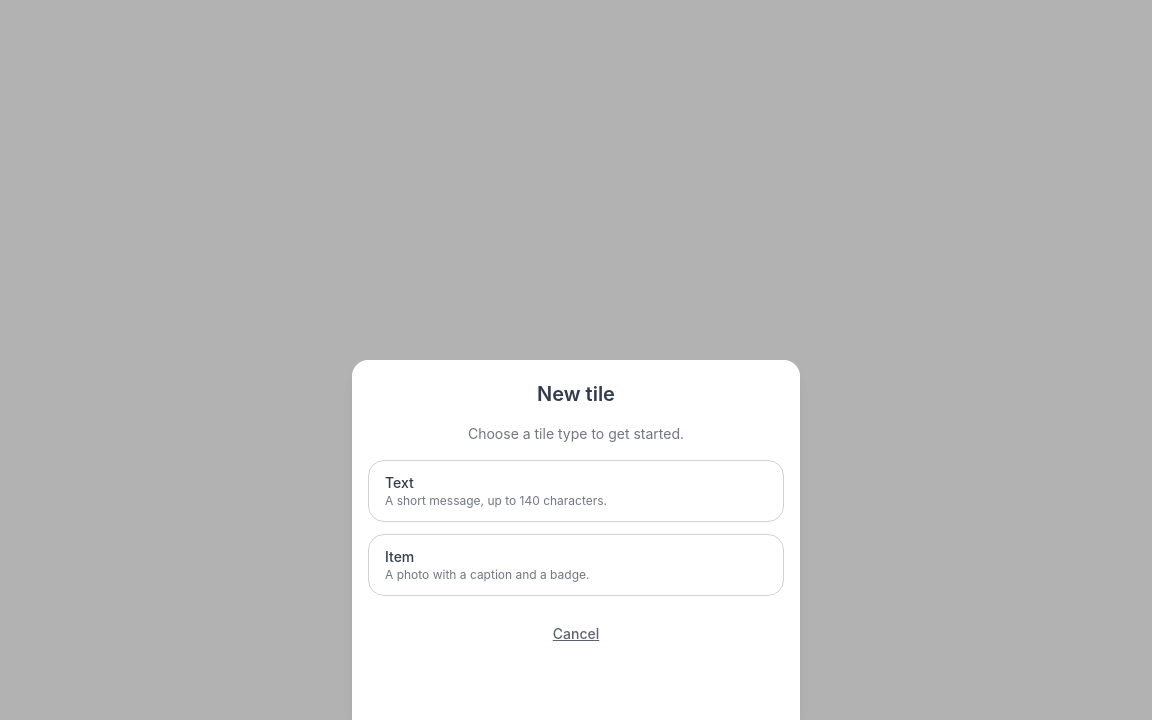
Test: AddTileSheet › creates a text tile, then confirms, notifies, and closes
Click the button "Text A short message, up to 140 characters.": (576, 491) [368,460,784,522]
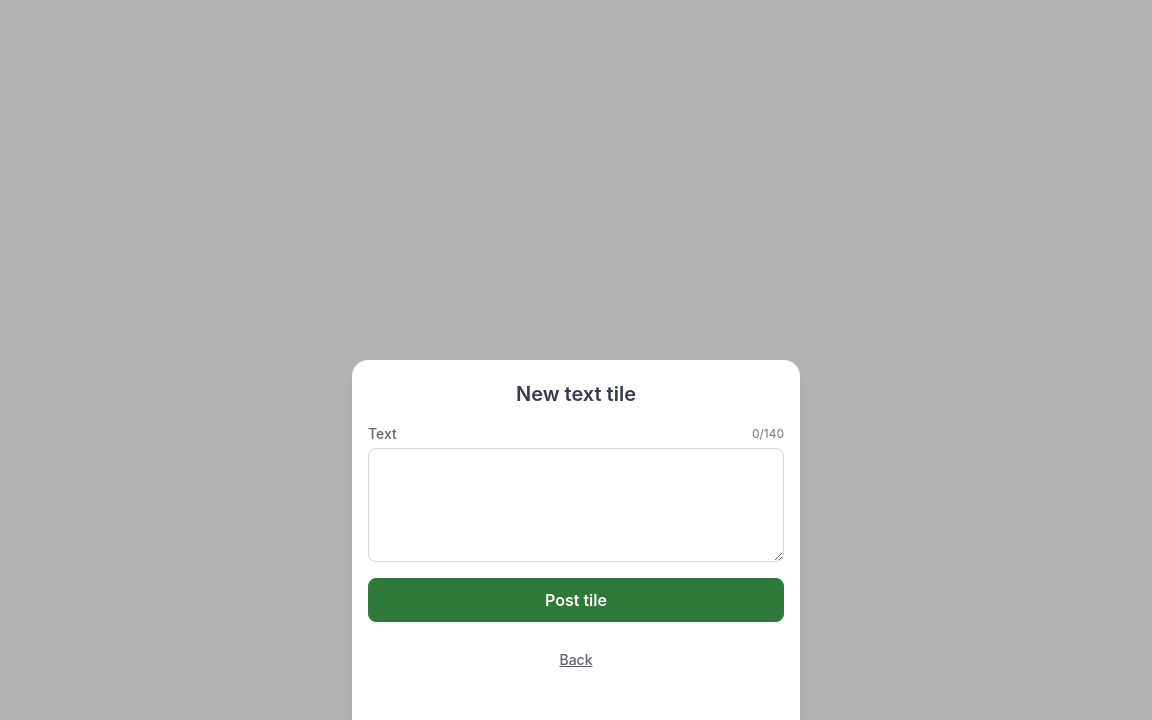
In the text box labelled "Text": (576, 505) [368,448,784,562], type "Hi there"
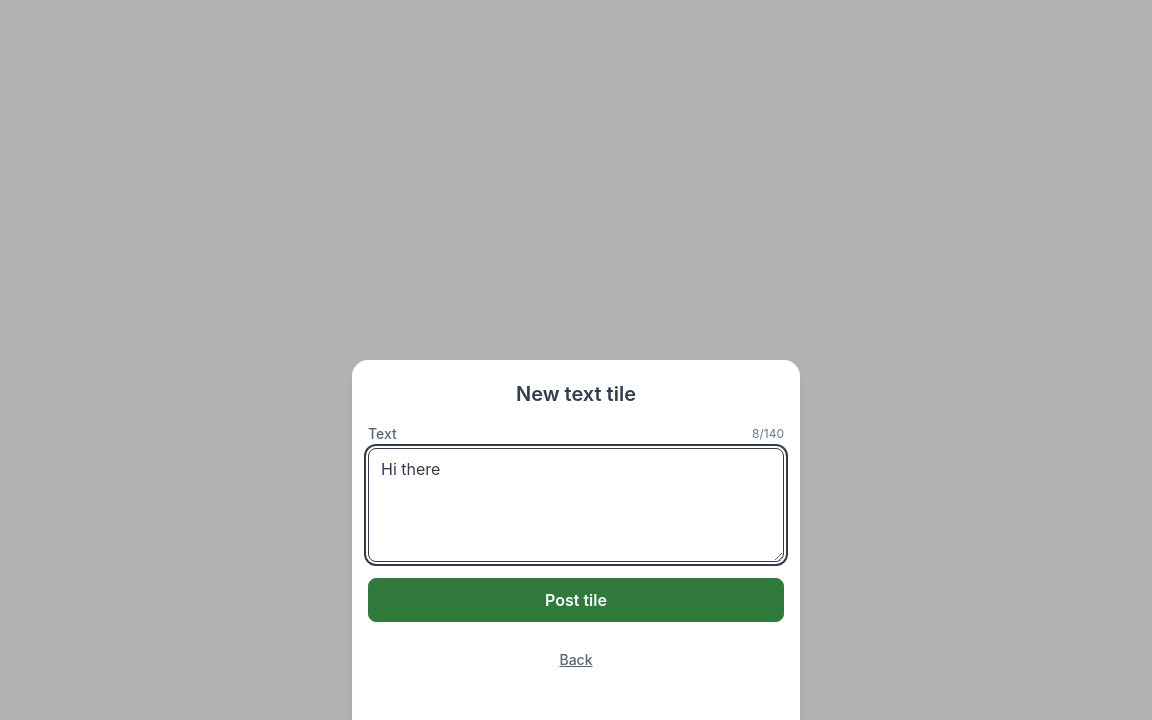
Click the button "Post tile": (576, 600) [368,578,784,622]
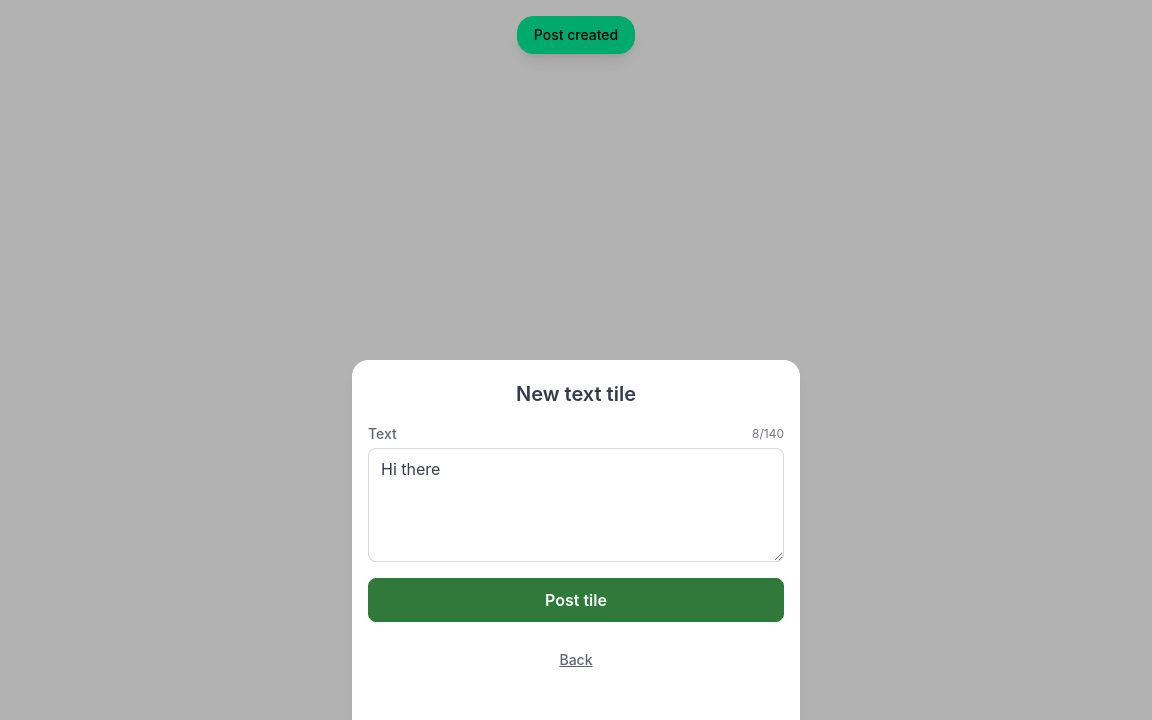
Expected: the message reads "Post created", [534,26,618,43]
